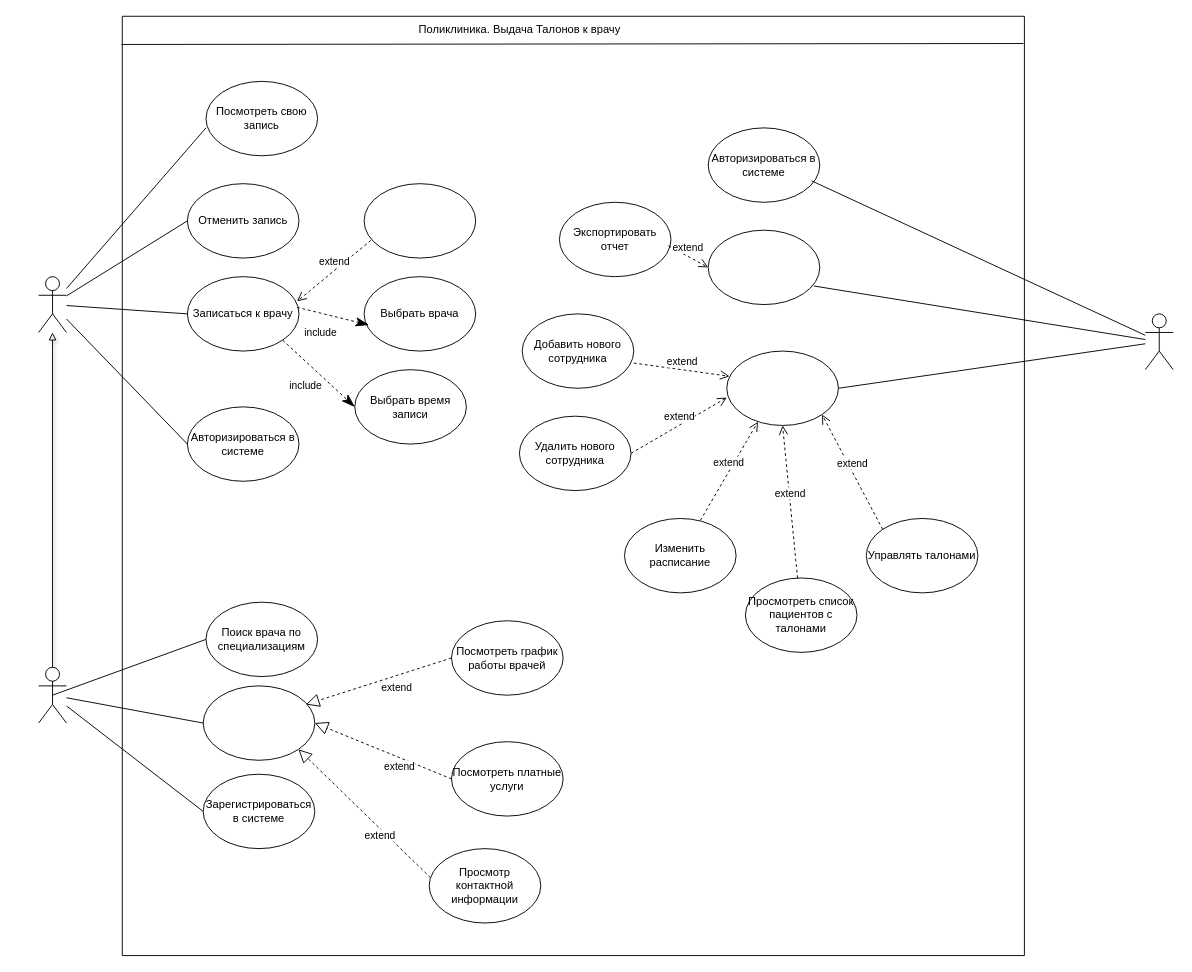
This 1192x972 diagram has some shape labels left out. Each missing label, with the centre of its shape:
"Админ" belongs at pixel 1158 341.
"Ведение БД" belongs at pixel 782 387.
"Выбрать специализацию" belongs at pixel 419 220.
"Гость" belongs at pixel 52 694.
"Пользователь" belongs at pixel 52 304.
"Посмотреть информацию на сайте" belongs at pixel 258 722.
"Формирование отчета" belongs at pixel 763 267.
